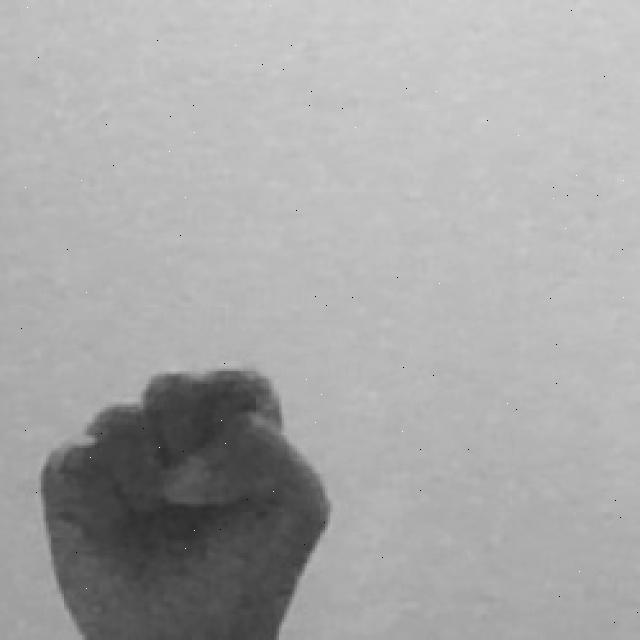S: (34, 358, 338, 640)
